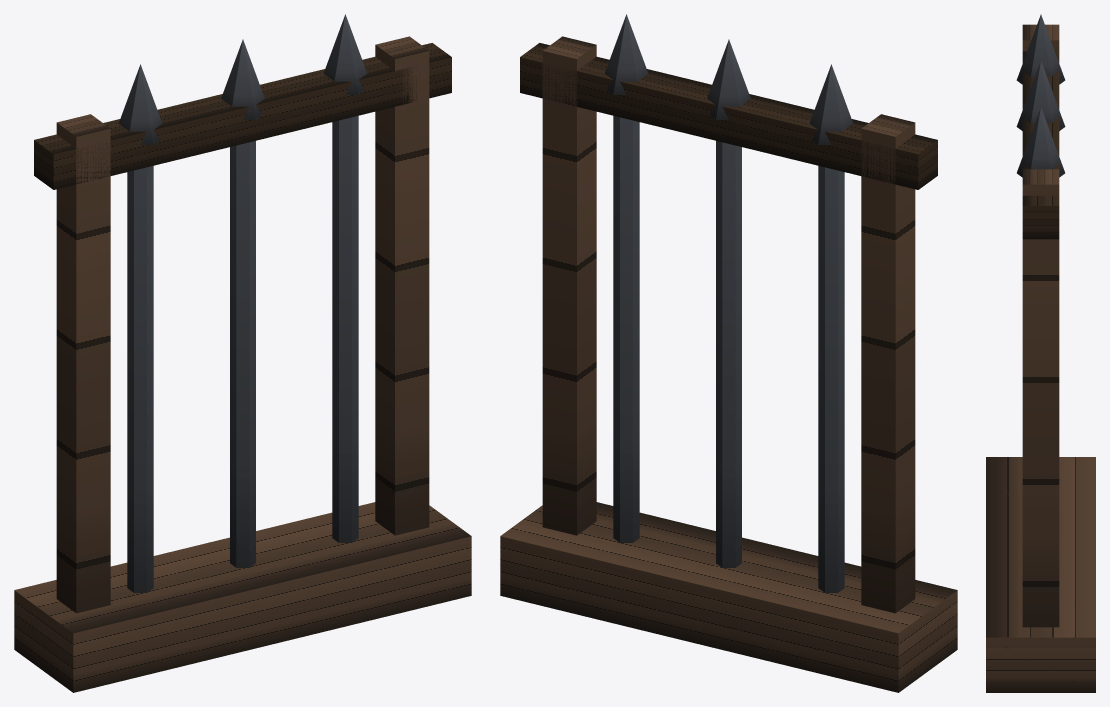
The model's file is weapon_rack.gltf.
3 views of the same model, side by side, from view 1: azimuth 30°, elevation 25°; view 2: azimuth 150°, elevation 25°; view 3: azimuth 270°, elevation 25° (orthographic). The views are drawn at different scales.
Visible parts, largest first — view 1: weapon_rack; view 2: weapon_rack; view 3: weapon_rack.
Part boxes in pixels (left/top/right/bottom): weapon_rack: left=14, top=14, right=471, bottom=692; weapon_rack: left=500, top=14, right=957, bottom=692; weapon_rack: left=986, top=14, right=1095, bottom=692.
Bounding box in the file's own units: 0.7 × 0.98 × 0.18.
Materials: 1 (1 with a texture image).
